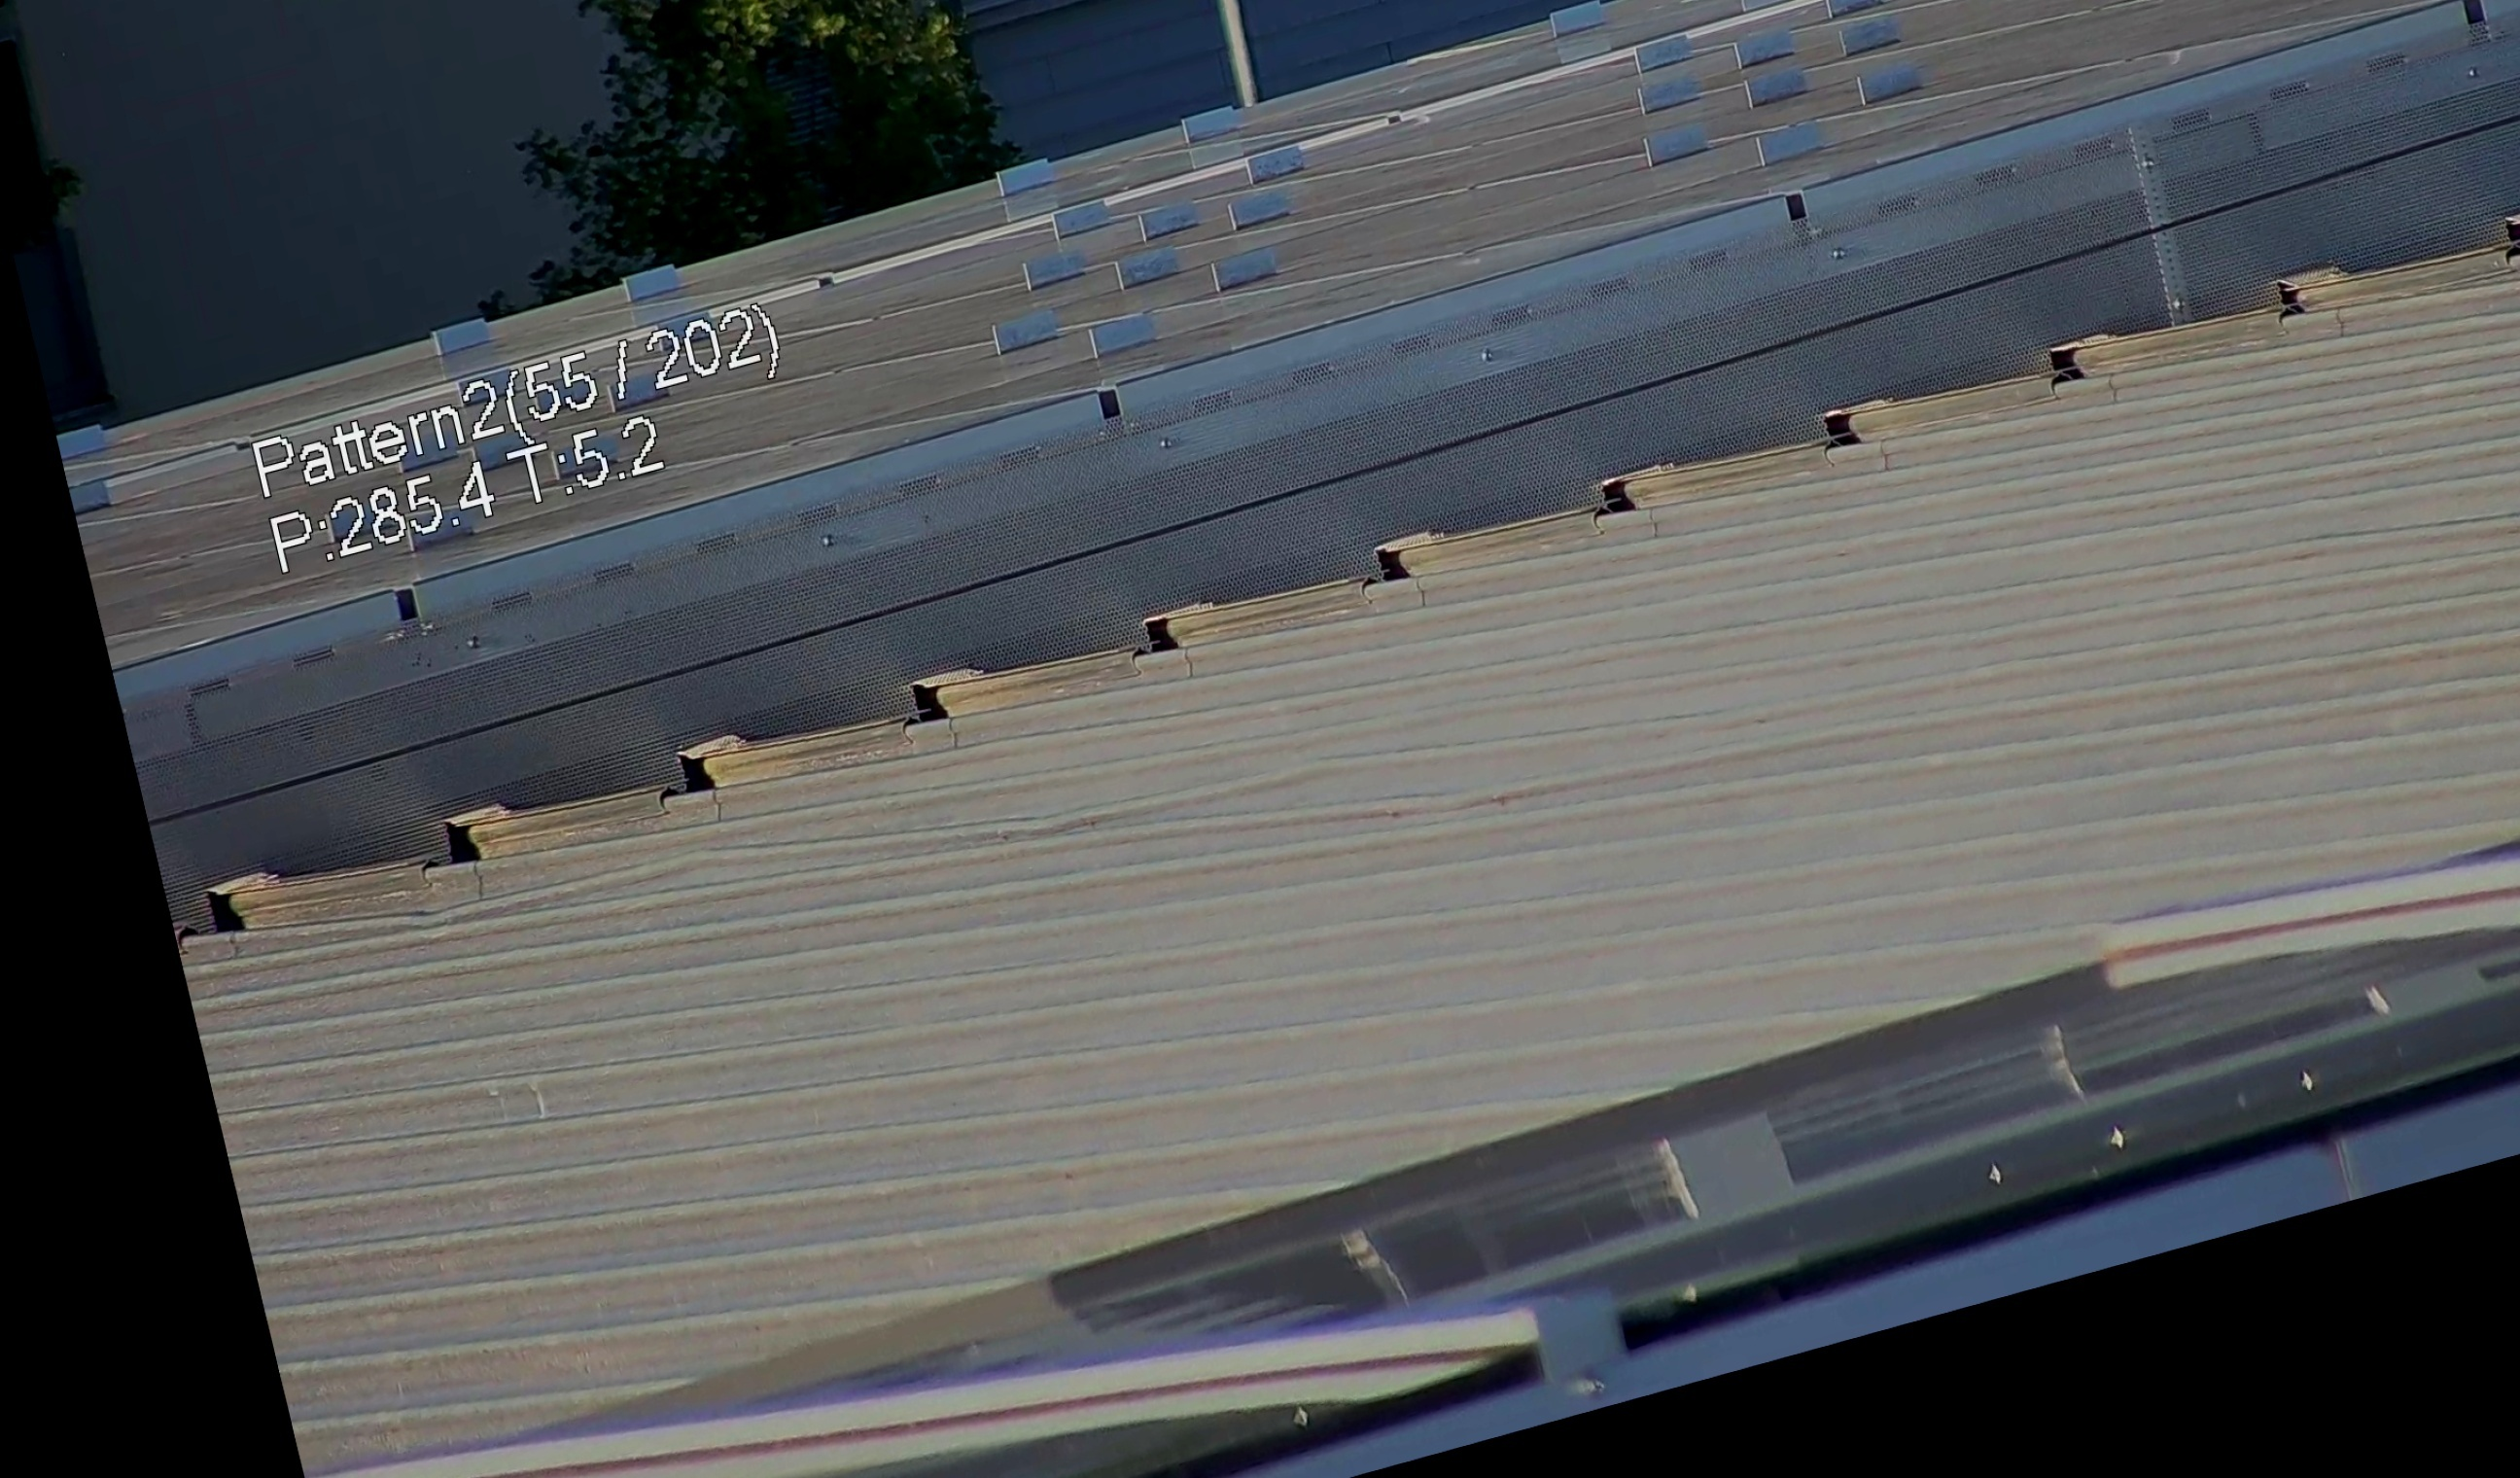Other: (881, 665, 957, 748)
